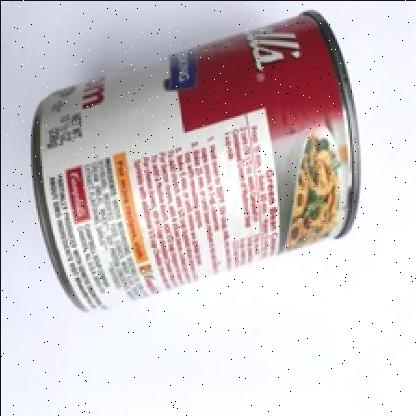Can: (0, 2, 394, 322)
